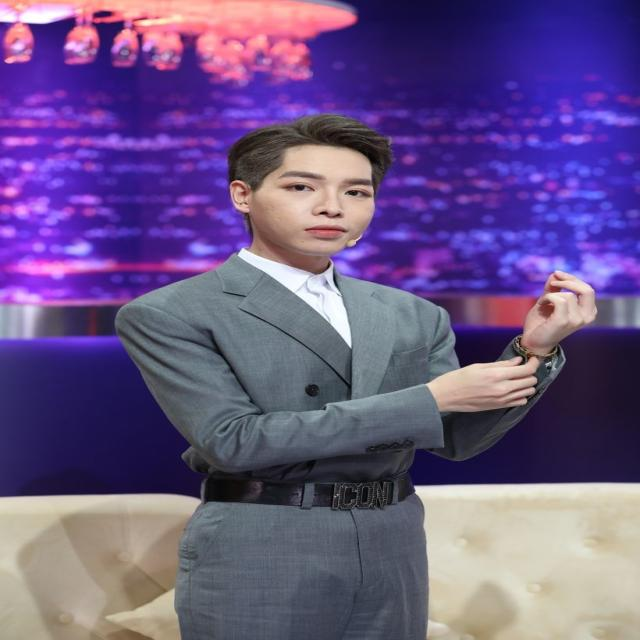Nonhelmet: (224, 112, 396, 256)
